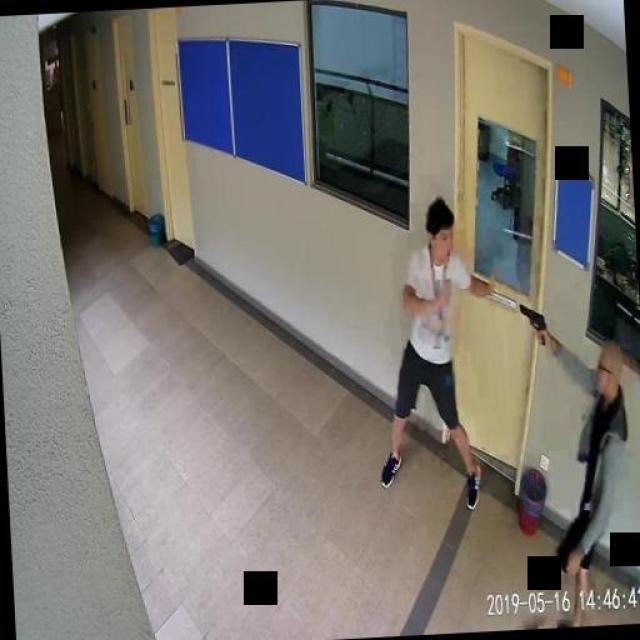gun: (519, 300, 546, 346)
